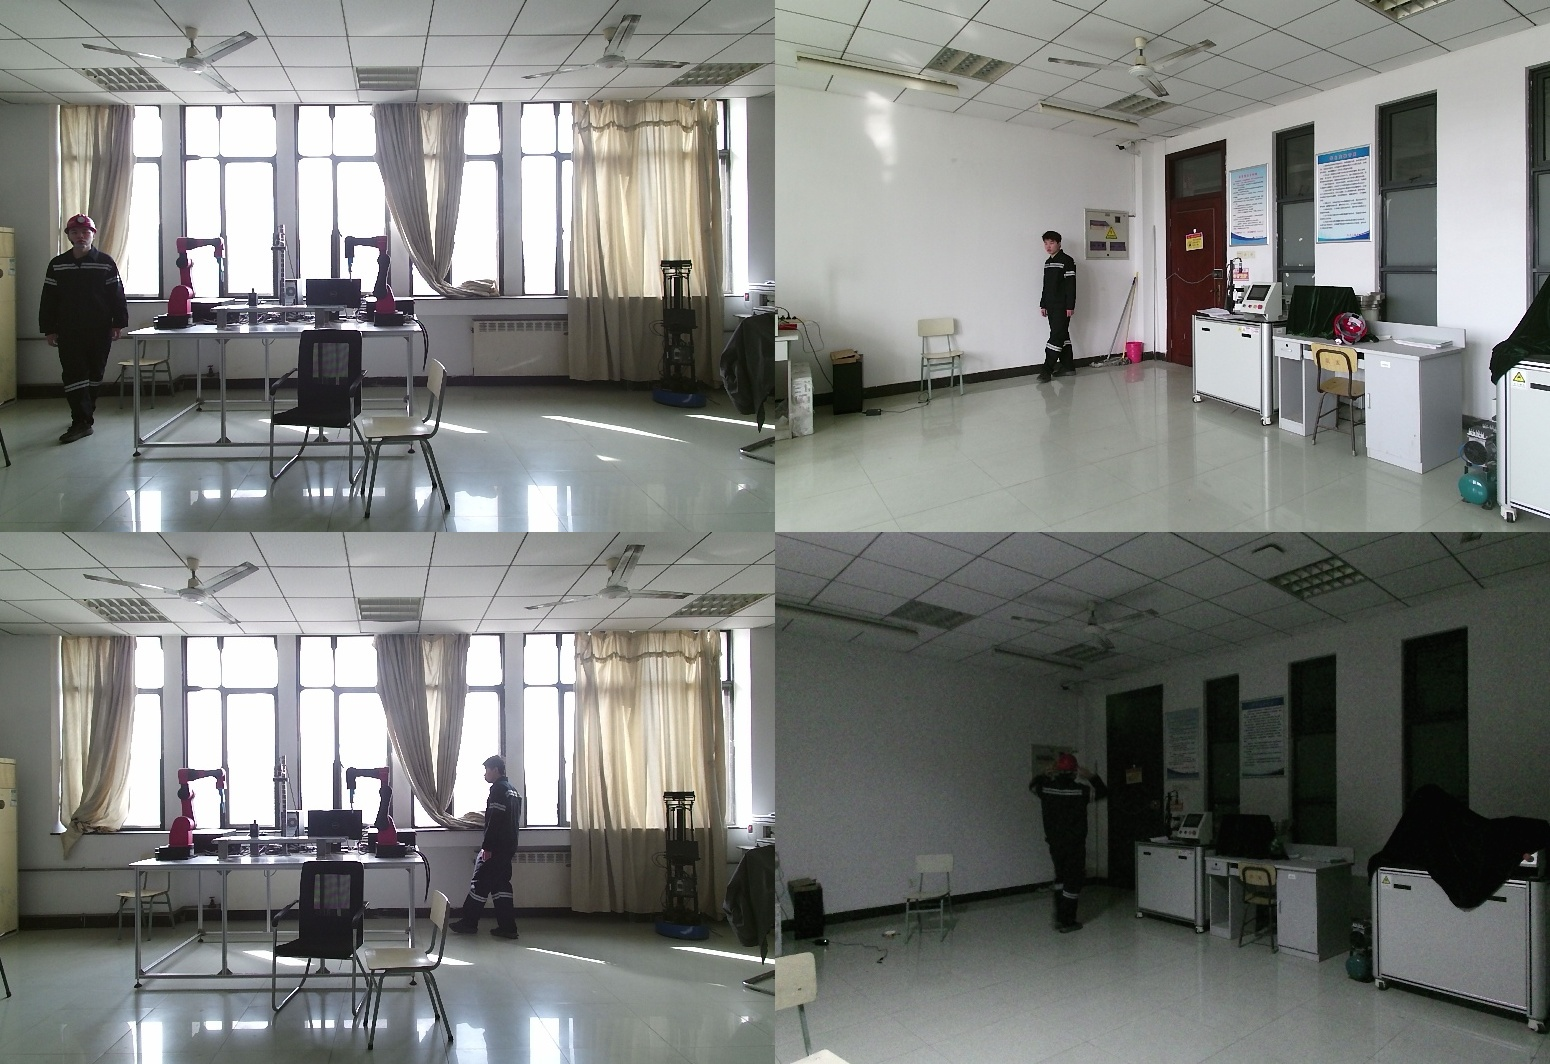person: (37, 216, 129, 443), (1024, 755, 1110, 945), (455, 758, 525, 943), (1039, 229, 1080, 385)
